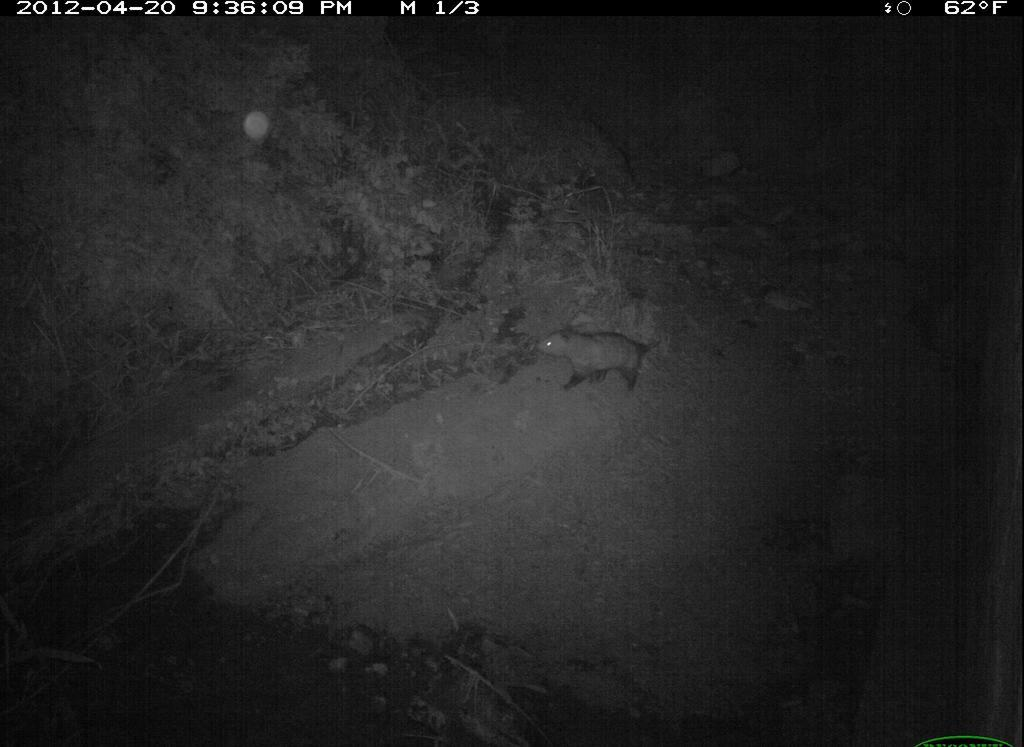opossum: (534, 315, 685, 399)
